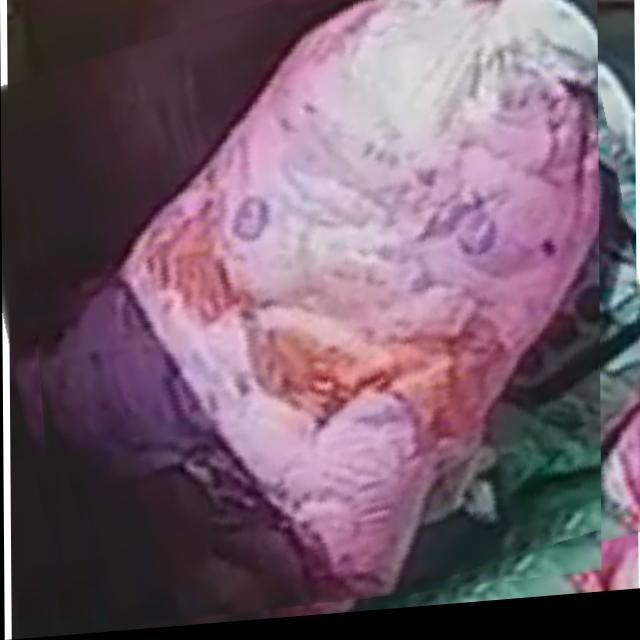other_trashbag: (34, 0, 599, 610)
